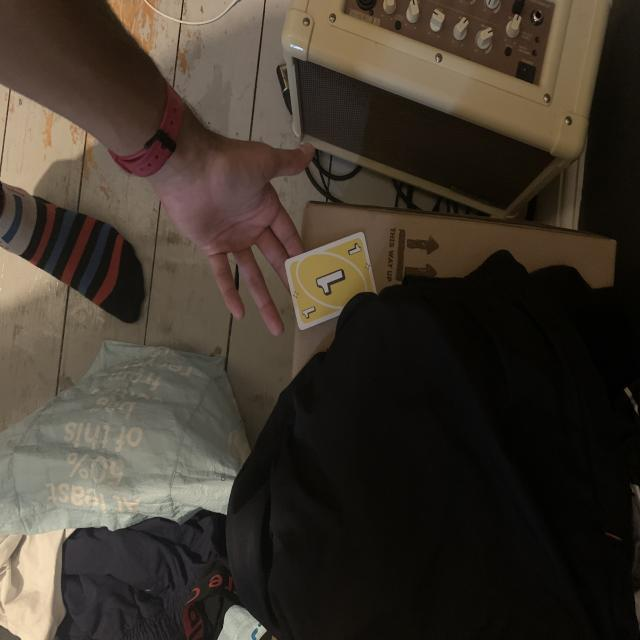lyellow-1: (345, 240, 366, 258)
